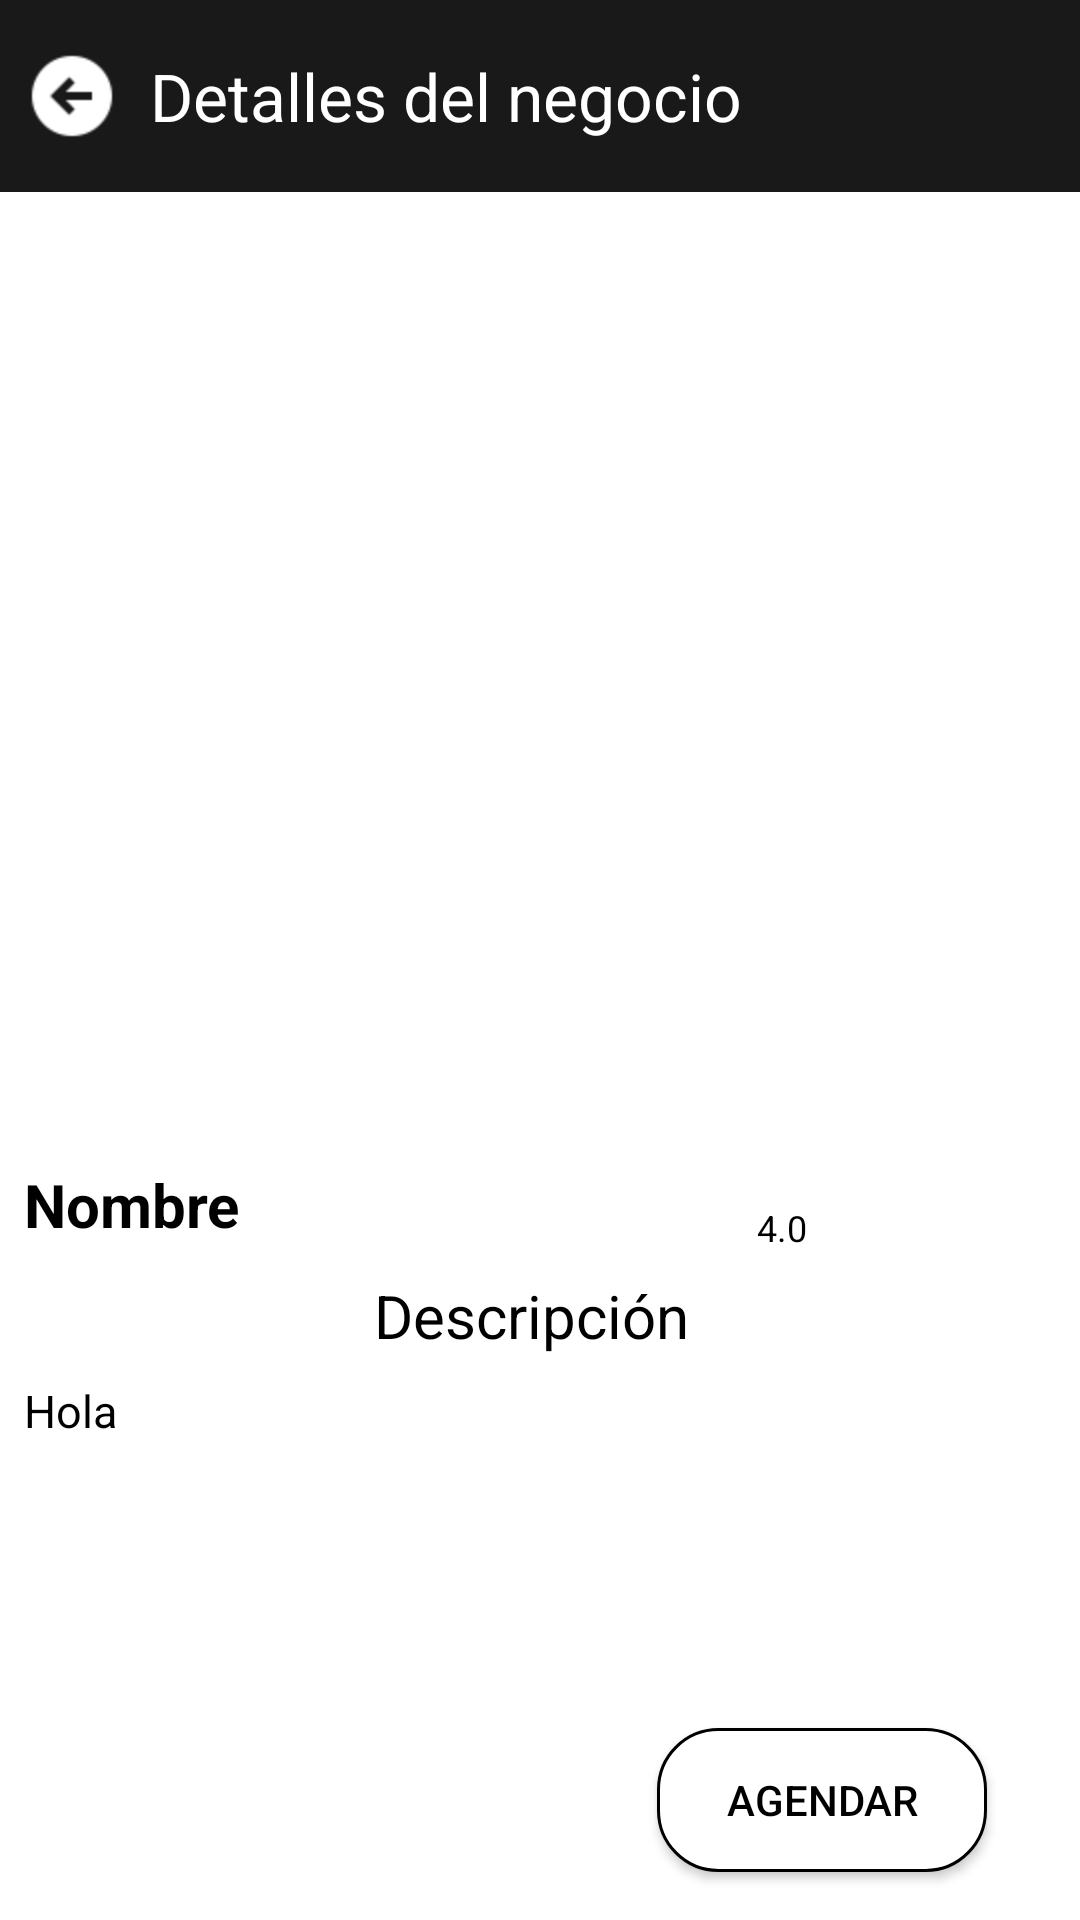

Icons on this 1080 x 1920 Android screen, each with its box as (x1, y1, x2, y2):
back: (31, 55, 113, 137)
